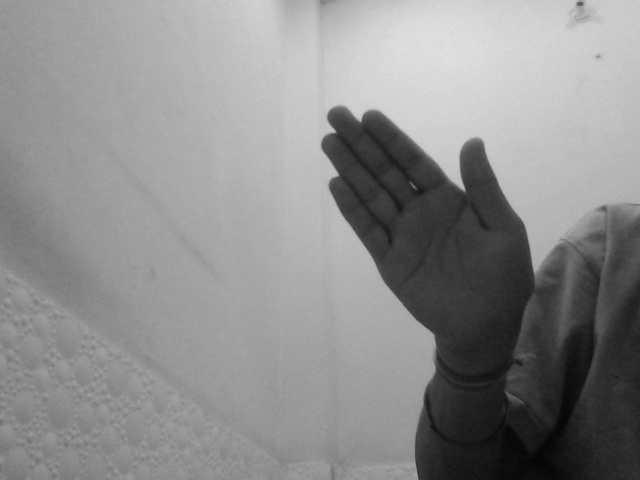Hello: (315, 103, 537, 378)
